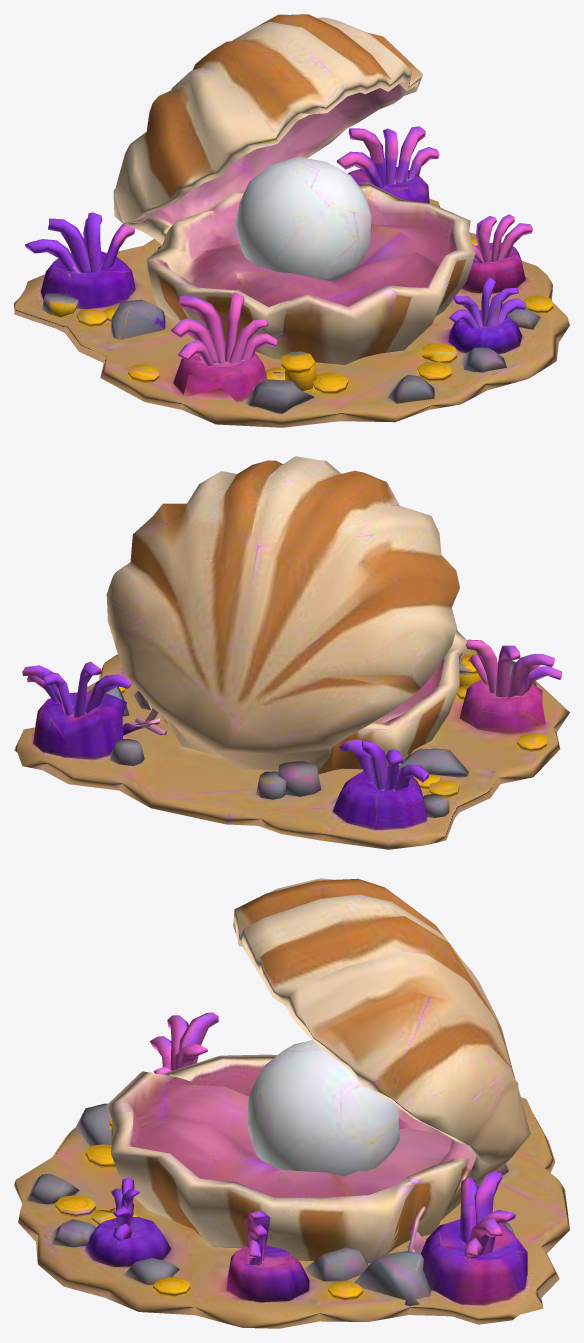
Rendered from shell2.glb.
3 renders of one model, top to bottom at view 1: azimuth 30°, elevation 25°; view 2: azimuth 150°, elevation 25°; view 3: azimuth 270°, elevation 25°, orthographic. The views are drawn at different scales.
Bounding box in the file's own units: 0.9595 × 0.5771 × 0.9385.
Materials: 1 (1 with a texture image).
